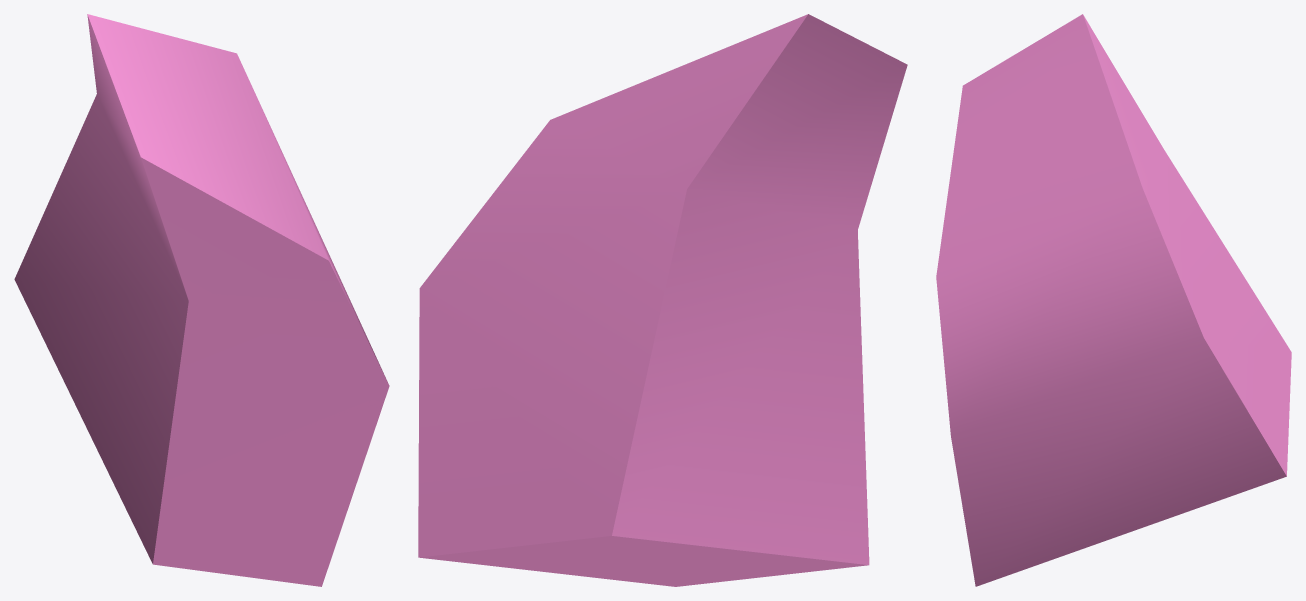
File: FloatingRock_5.fbx
3 views of the same model, side by side, from view 1: azimuth 30°, elevation 25°; view 2: azimuth 150°, elevation 25°; view 3: azimuth 270°, elevation 25° (orthographic). The views are drawn at different scales.
Parts seen in each view (by area): view 1: FloatingRock_5; view 2: FloatingRock_5; view 3: FloatingRock_5.
Part boxes in pixels (<box>): FloatingRock_5: <box>14,14,389,586</box>; FloatingRock_5: <box>418,14,907,586</box>; FloatingRock_5: <box>936,14,1291,586</box>.
Bounding box in the file's own units: 129 × 165 × 256.
